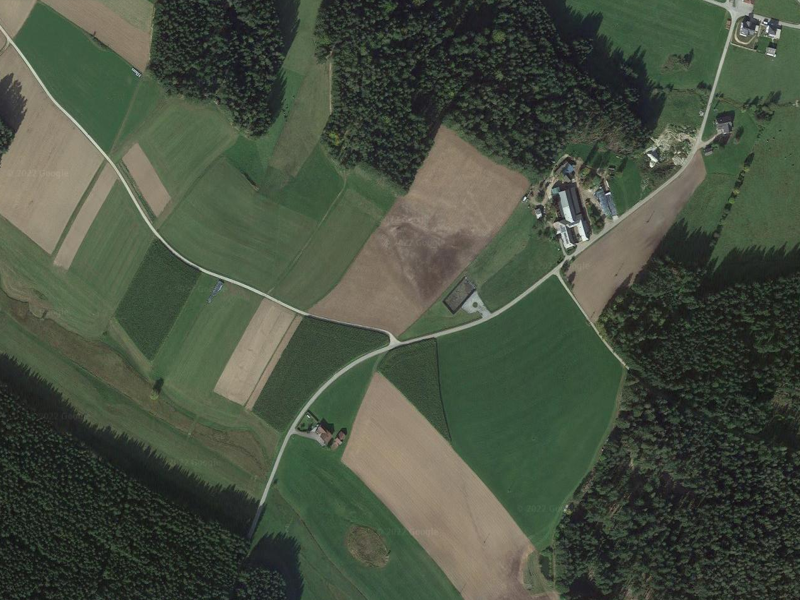field: (306, 127, 530, 337)
